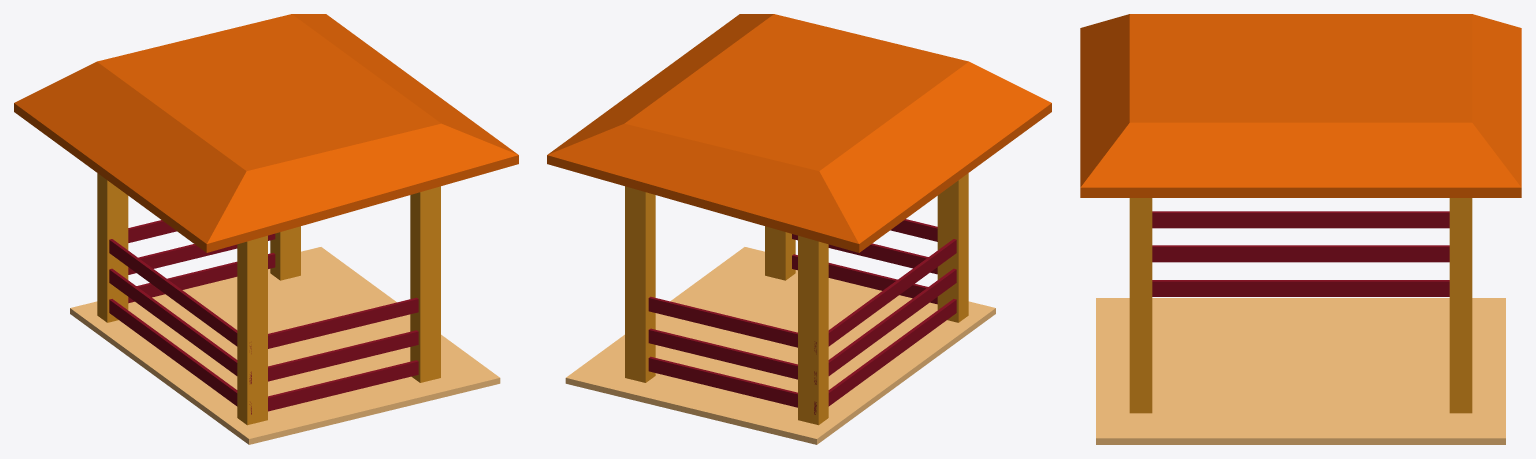
The model's file is meditation-room.glb.
3 renders of one model, left to right at view 1: azimuth 30°, elevation 25°; view 2: azimuth 150°, elevation 25°; view 3: azimuth 270°, elevation 25°, orthographic. The views are drawn at different scales.
Visible parts, largest first — view 1: Cube.004, Cube.014, Cube.003, Cube, Cube.002, Cube.008, Cube.010, Cube.009, Cube.006, Cube.007, Cube.005, Cube.001 (+3 smaller); view 2: Cube.004, Cube.014, Cube.002, Cube.001, Cube.003, Cube.011, Cube.013, Cube.012, Cube.007, Cube.006, Cube.005, Cube (+3 smaller); view 3: Cube.004, Cube.014, Cube.005, Cube.006, Cube, Cube.001, Cube.007.
Part boxes in pixels (x1,y1,x2,y2): Cube.004: [14, 14, 518, 252]; Cube.014: [70, 247, 500, 444]; Cube.003: [237, 235, 267, 425]; Cube: [410, 186, 440, 382]; Cube.002: [97, 173, 128, 322]; Cube.008: [268, 297, 418, 348]; Cube.010: [268, 360, 418, 411]; Cube.009: [268, 330, 418, 381]; Cube.006: [109, 268, 251, 383]; Cube.007: [109, 299, 251, 414]; Cube.005: [109, 239, 251, 353]; Cube.001: [270, 226, 300, 280]; Cube.004: [547, 14, 1051, 252]; Cube.014: [565, 247, 995, 444]; Cube.002: [798, 235, 828, 425]; Cube.001: [625, 186, 655, 382]; Cube.003: [937, 173, 968, 322]; Cube.011: [648, 296, 797, 347]; Cube.013: [648, 356, 797, 407]; Cube.012: [648, 328, 797, 379]; Cube.007: [814, 299, 956, 414]; Cube.006: [814, 268, 956, 384]; Cube.005: [814, 239, 956, 354]; Cube: [765, 226, 795, 280]; Cube.004: [1080, 14, 1521, 197]; Cube.014: [1096, 298, 1505, 444]; Cube.005: [1152, 211, 1449, 228]; Cube.006: [1152, 245, 1449, 262]; Cube: [1129, 198, 1152, 413]; Cube.001: [1449, 198, 1472, 413]; Cube.007: [1152, 280, 1449, 296].
Bounding box in the file's own units: 18.05 × 14.37 × 19.3.
